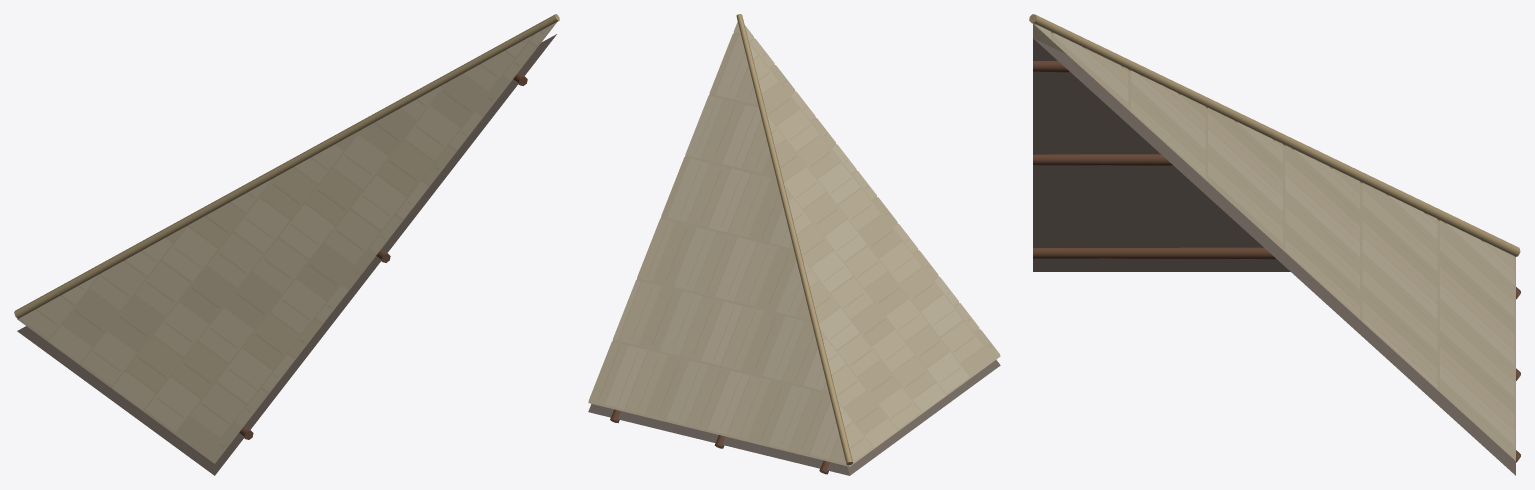
File: Roof_Hip_45.glb
3 views of the same model, side by side, from view 1: azimuth 30°, elevation 25°; view 2: azimuth 150°, elevation 25°; view 3: azimuth 270°, elevation 25° (orthographic). The views are drawn at different scales.
Visible parts, largest first — view 1: _MeshInstance3D_3547, _MeshInstance3D_3554; view 2: _MeshInstance3D_3547, _MeshInstance3D_3554; view 3: _MeshInstance3D_3547, _MeshInstance3D_3554, _MeshInstance3D_3549, _MeshInstance3D_3551.
Boxes of the visible parts, x1=… form: _MeshInstance3D_3547: x1=17, y1=22, x2=556, y2=475; _MeshInstance3D_3554: x1=14, y1=14, x2=559, y2=318; _MeshInstance3D_3547: x1=588, y1=22, x2=1000, y2=475; _MeshInstance3D_3554: x1=736, y1=14, x2=852, y2=465; _MeshInstance3D_3547: x1=1033, y1=24, x2=1515, y2=475; _MeshInstance3D_3554: x1=1029, y1=14, x2=1520, y2=256; _MeshInstance3D_3549: x1=1033, y1=247, x2=1276, y2=259; _MeshInstance3D_3551: x1=1033, y1=154, x2=1172, y2=165.
Size of the model in its own units: 3.05 by 3.22 by 3.05.
